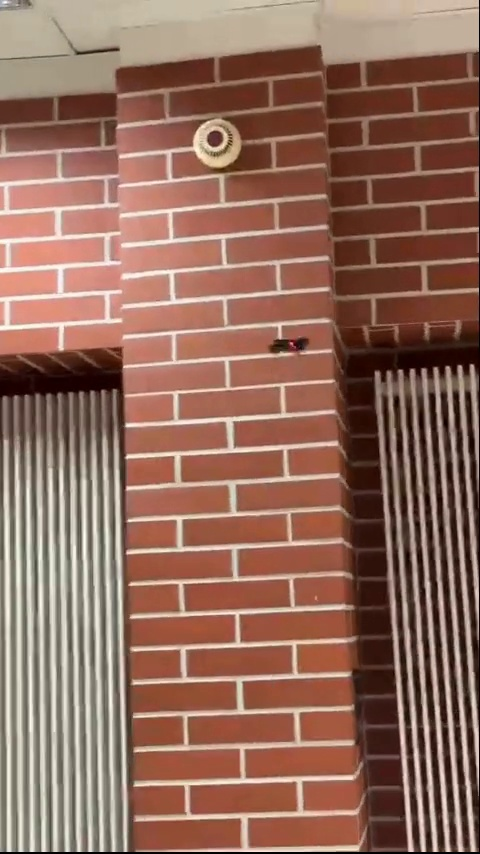drone: (269, 334, 309, 356)
